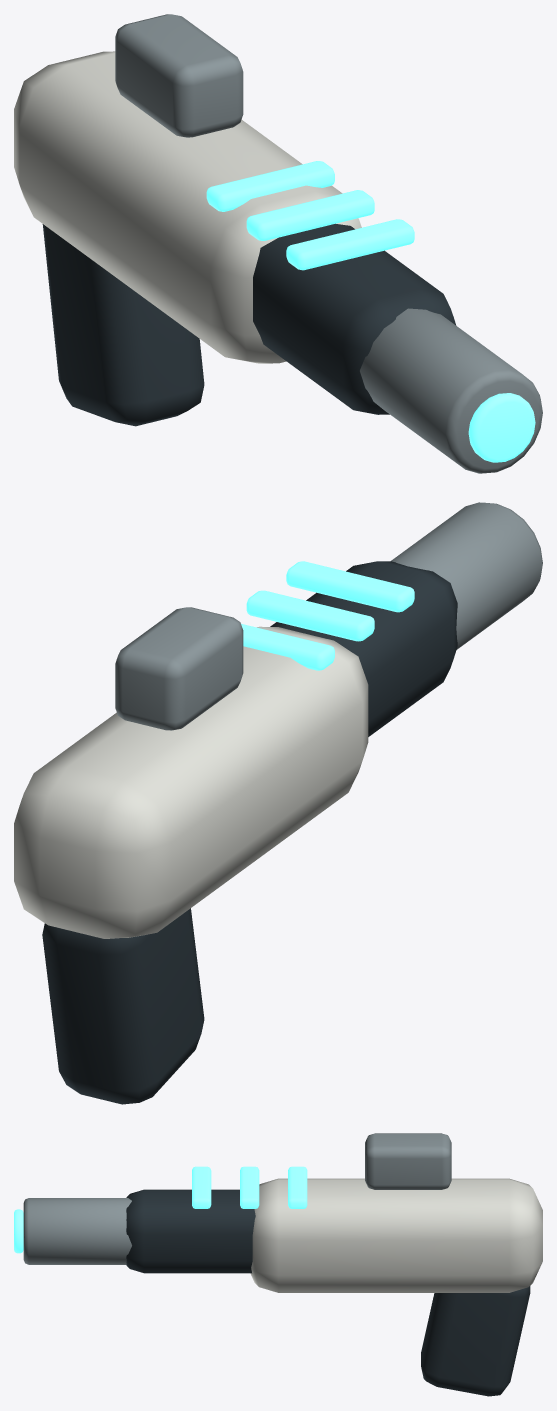
File: pulse-carbine.glb
3 views of the same model, one above another, from view 1: azimuth 30°, elevation 25°; view 2: azimuth 150°, elevation 25°; view 3: azimuth 270°, elevation 25° (orthographic). The views are drawn at different scales.
Parts seen in each view (by area): view 1: NC ceramic ivory.011, NC graphite.011, NC brushed titanium.013, NC cyan.008; view 2: NC ceramic ivory.011, NC graphite.011, NC brushed titanium.013, NC cyan.008; view 3: NC ceramic ivory.011, NC graphite.011, NC brushed titanium.013, NC cyan.008.
Boxes of the visible parts, left/top/right/bottom form: NC ceramic ivory.011: left=14, top=51, right=361, bottom=363; NC graphite.011: left=42, top=223, right=456, bottom=426; NC brushed titanium.013: left=115, top=14, right=542, bottom=473; NC cyan.008: left=206, top=161, right=535, bottom=462; NC ceramic ivory.011: left=14, top=626, right=368, bottom=938; NC graphite.011: left=42, top=561, right=457, bottom=1104; NC brushed titanium.013: left=115, top=502, right=542, bottom=730; NC cyan.008: left=241, top=561, right=414, bottom=670; NC ceramic ivory.011: left=250, top=1178, right=542, bottom=1292; NC graphite.011: left=126, top=1189, right=530, bottom=1396; NC brushed titanium.013: left=23, top=1133, right=451, bottom=1264; NC cyan.008: left=14, top=1166, right=307, bottom=1253.
Size of the model in its own units: 0.22 by 0.573 by 1.1.
